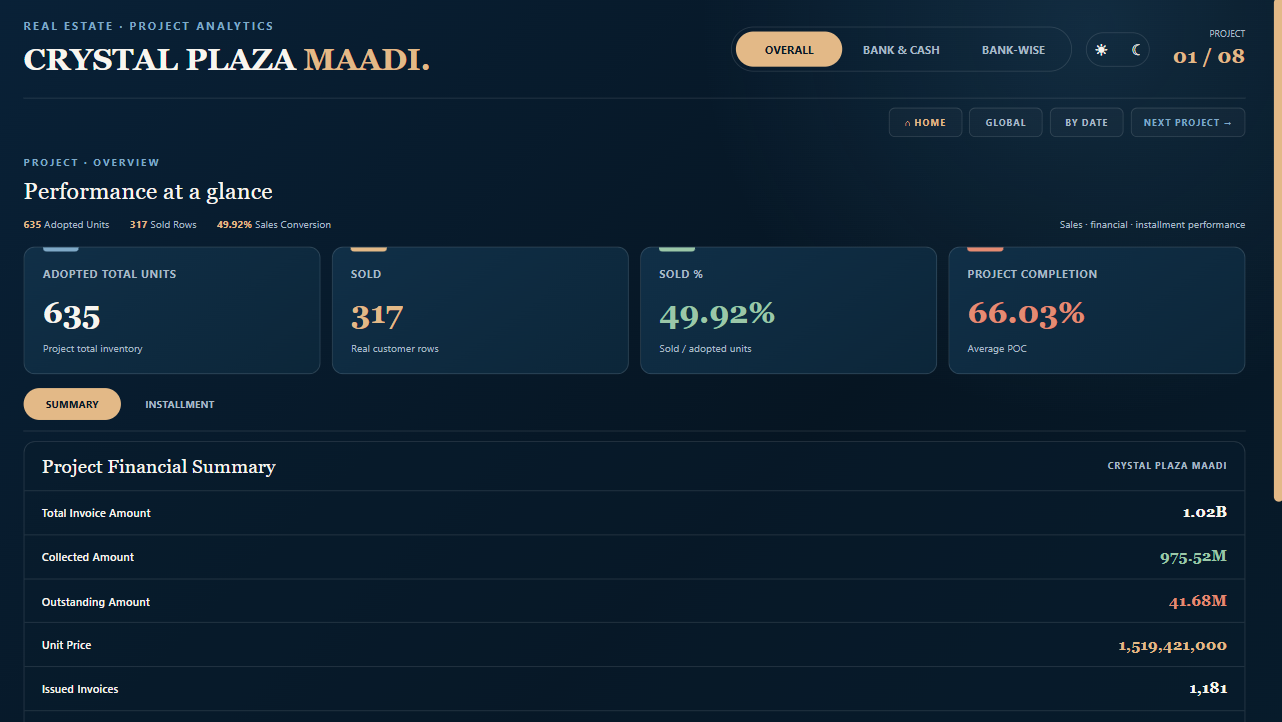

The page's visual inventory and layout, read from the dashboard file:
{"tool":"powerbi","page":{"name":"Crystal Plaza Maadi","canvas":[1280,720],"ordinal":3},"visuals":[{"type":"htmlContent443BE3AD55E043BF878BED274D3A6855","fields":{"content":["HTML.Crystal_Plaza_New"]},"box":[9.8,0,1270.5,720.2],"z":0},{"type":"actionButton","box":[887.8,106.4,72.1,37.9],"z":1},{"type":"actionButton","box":[972.2,107.6,59.9,36.7],"z":2},{"type":"actionButton","box":[1044.3,107.6,73.4,37.9],"z":3},{"type":"actionButton","box":[1129.9,107.6,95.4,37.9],"z":4}]}

Visuals, with their boxes in screenshot pixels (x1, y1, x2, y2), scaled from the page's 1280x720 canvas onto the 1282x722 screenshot:
htmlContent443BE3AD55E043BF878BED274D3A6855 - HTML.Crystal_Plaza_New: bbox=(10, 0, 1281, 721)
actionButton: bbox=(889, 107, 961, 145)
actionButton: bbox=(974, 108, 1034, 145)
actionButton: bbox=(1046, 108, 1119, 146)
actionButton: bbox=(1132, 108, 1227, 146)
